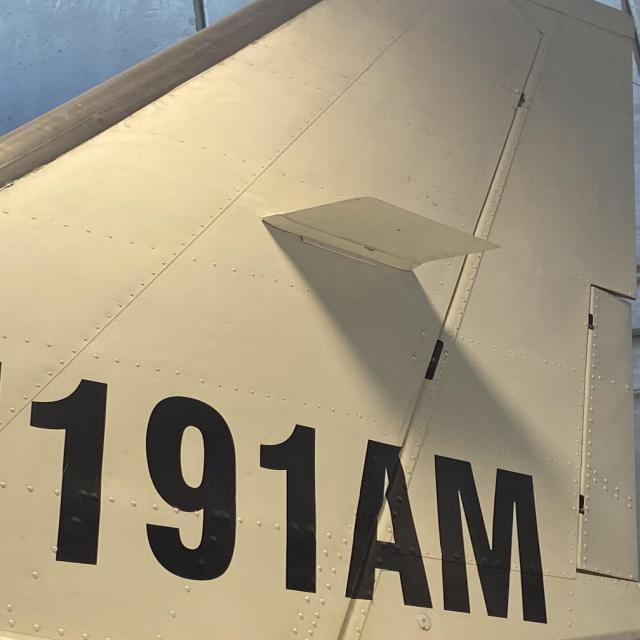Paint-off: (383, 168, 484, 226), (363, 245, 379, 254), (396, 229, 402, 233)
